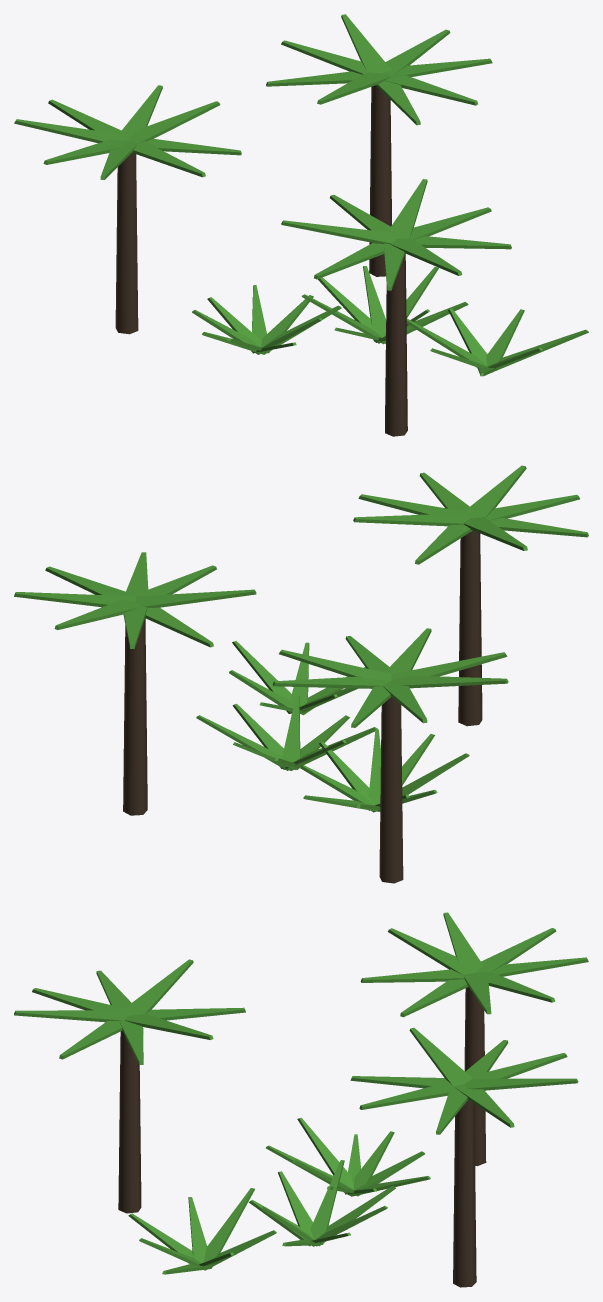
The model's file is sawyer_fern_gully_e.glb.
3 views of the same model, one above another, from view 1: azimuth 30°, elevation 25°; view 2: azimuth 150°, elevation 25°; view 3: azimuth 270°, elevation 25° (orthographic). The views are drawn at different scales.
Parts seen in each view (by area): view 1: treefern_0_trunk, treefern_1_trunk, treefern_2_trunk, treefern_1_frond0, treefern_0_frond7, treefern_2_frond4, treefern_0_frond2, treefern_1_frond6, treefern_2_frond5, treefern_2_frond1, treefern_2_frond2, treefern_2_frond3 (+23 smaller); view 2: treefern_2_trunk, treefern_0_trunk, treefern_1_trunk, treefern_2_frond7, treefern_1_frond6, treefern_0_frond7, treefern_0_frond3, treefern_2_frond3, treefern_0_frond0, treefern_1_frond3, treefern_0_frond4, treefern_1_frond2 (+25 smaller); view 3: treefern_2_trunk, treefern_1_trunk, treefern_0_trunk, treefern_1_frond0, treefern_2_frond4, treefern_1_frond3, treefern_2_frond7, treefern_0_frond4, treefern_0_frond2, treefern_0_frond5, treefern_0_frond3, treefern_2_frond1 (+24 smaller).
Boxes of the visible parts, left/top/right/bottom form: treefern_0_trunk: left=115, top=153, right=138, bottom=334; treefern_1_trunk: left=385, top=253, right=407, bottom=436; treefern_2_trunk: left=369, top=85, right=391, bottom=276; treefern_1_frond0: left=281, top=220, right=395, bottom=243; treefern_0_frond7: left=127, top=101, right=220, bottom=143; treefern_2_frond4: left=341, top=14, right=391, bottom=73; treefern_0_frond2: left=14, top=119, right=126, bottom=143; treefern_1_frond6: left=387, top=179, right=427, bottom=238; treefern_2_frond5: left=281, top=40, right=375, bottom=74; treefern_2_frond1: left=384, top=75, right=477, bottom=105; treefern_2_frond2: left=389, top=58, right=492, bottom=77; treefern_2_frond3: left=381, top=29, right=450, bottom=76; treefern_2_trunk: left=123, top=618, right=147, bottom=815; treefern_0_trunk: left=379, top=697, right=403, bottom=883; treefern_1_trunk: left=458, top=530, right=482, bottom=726; treefern_2_frond7: left=135, top=589, right=256, bottom=607; treefern_1_frond6: left=353, top=513, right=469, bottom=526; treefern_0_frond7: left=279, top=649, right=391, bottom=680; treefern_0_frond3: left=391, top=675, right=508, bottom=688; treefern_2_frond3: left=14, top=592, right=135, bottom=607; treefern_0_frond0: left=272, top=676, right=390, bottom=688; treefern_1_frond3: left=462, top=465, right=526, bottom=518; treefern_0_frond4: left=391, top=652, right=507, bottom=680; treefern_1_frond2: left=486, top=494, right=579, bottom=520; treefern_2_trunk: left=453, top=1100, right=476, bottom=1287; treefern_1_trunk: left=118, top=1030, right=141, bottom=1213; treefern_0_trunk: left=464, top=987, right=486, bottom=1166; treefern_1_frond0: left=121, top=959, right=193, bottom=1015; treefern_2_frond4: left=464, top=1078, right=578, bottom=1090; treefern_1_frond3: left=14, top=1010, right=129, bottom=1022; treefern_2_frond7: left=409, top=1028, right=472, bottom=1086; treefern_0_frond4: left=388, top=928, right=474, bottom=974; treefern_0_frond2: left=475, top=928, right=556, bottom=972; treefern_0_frond5: left=360, top=969, right=464, bottom=982; treefern_0_frond3: left=443, top=912, right=483, bottom=972; treefern_2_frond1: left=359, top=1082, right=451, bottom=1109.
Size of the model in its own units: 4.32 by 1.97 by 4.83.
